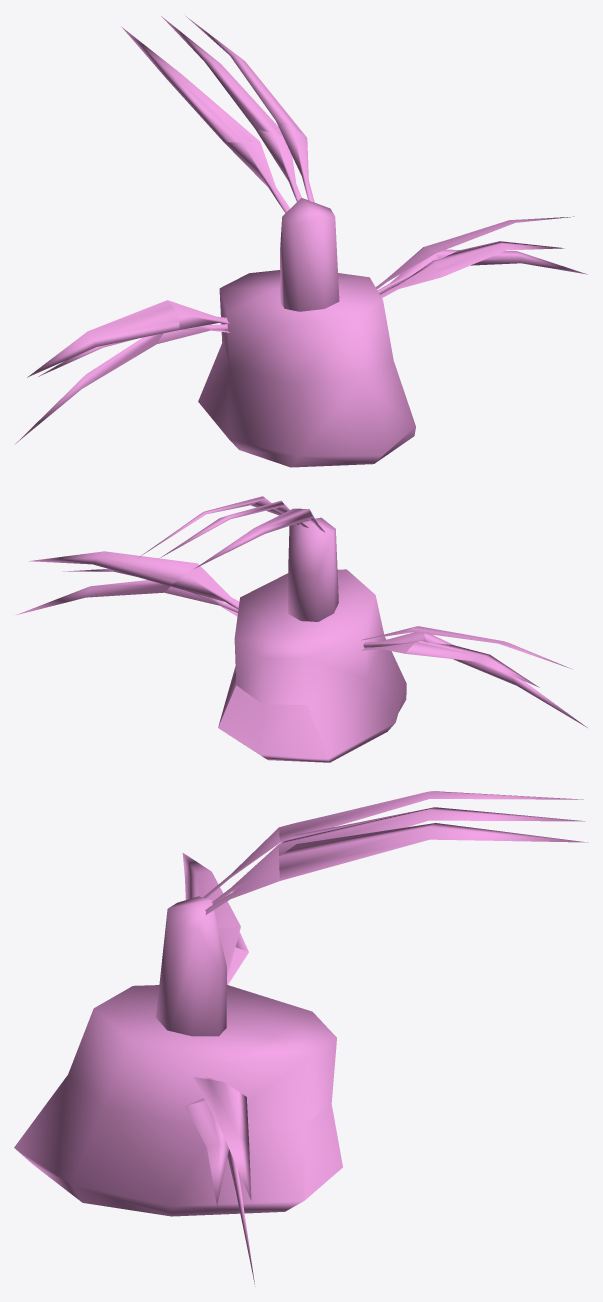
The model's file is maya_plume_c.dae.
3 renders of one model, top to bottom at view 1: azimuth 30°, elevation 25°; view 2: azimuth 150°, elevation 25°; view 3: azimuth 270°, elevation 25°, orthographic. The views are drawn at different scales.
Visible parts, largest first — view 1: lioness_001; view 2: lioness_001; view 3: lioness_001.
Part boxes in pixels (bbox=[...]): lioness_001: bbox=[14, 16, 587, 467]; lioness_001: bbox=[16, 496, 587, 762]; lioness_001: bbox=[14, 791, 588, 1286].
Size of the model in its own units: 1.69 by 1.12 by 0.8051.
